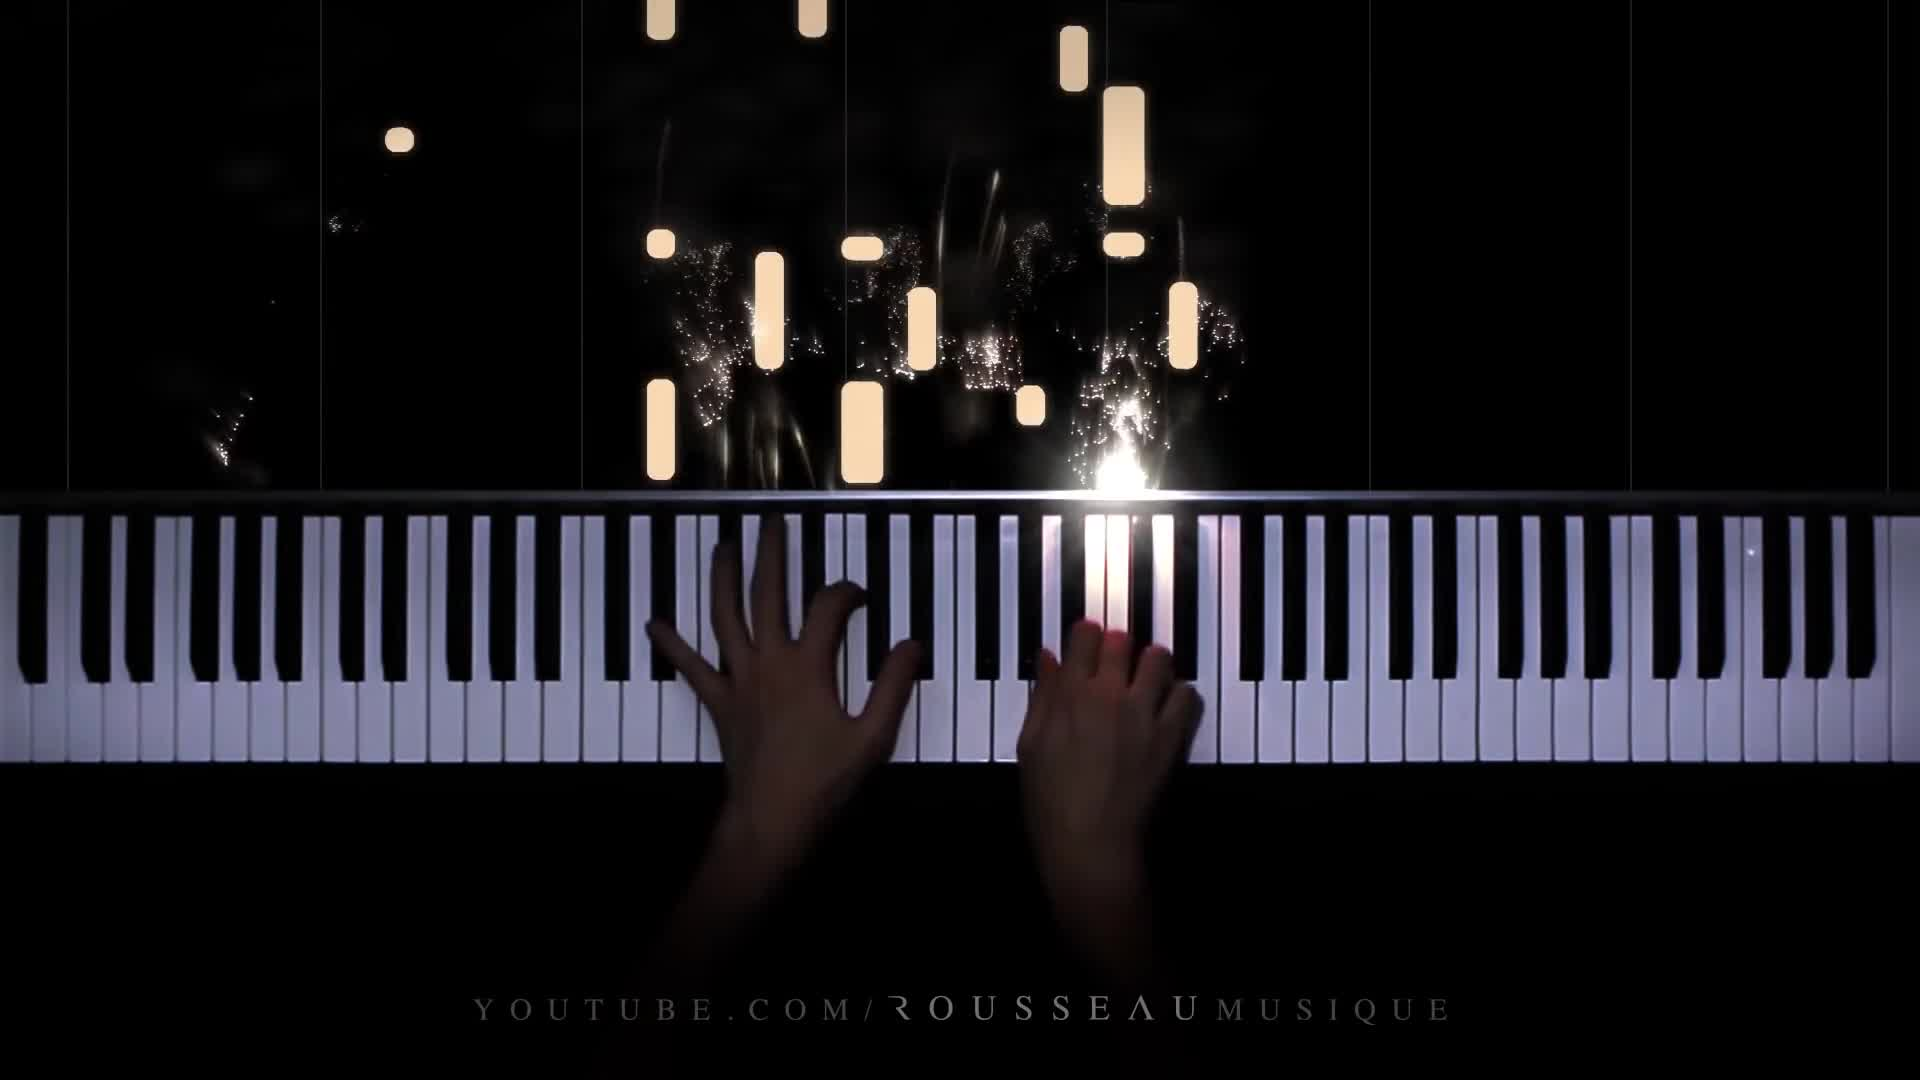left: (642, 512, 923, 793)
right: (1007, 613, 1207, 825)
